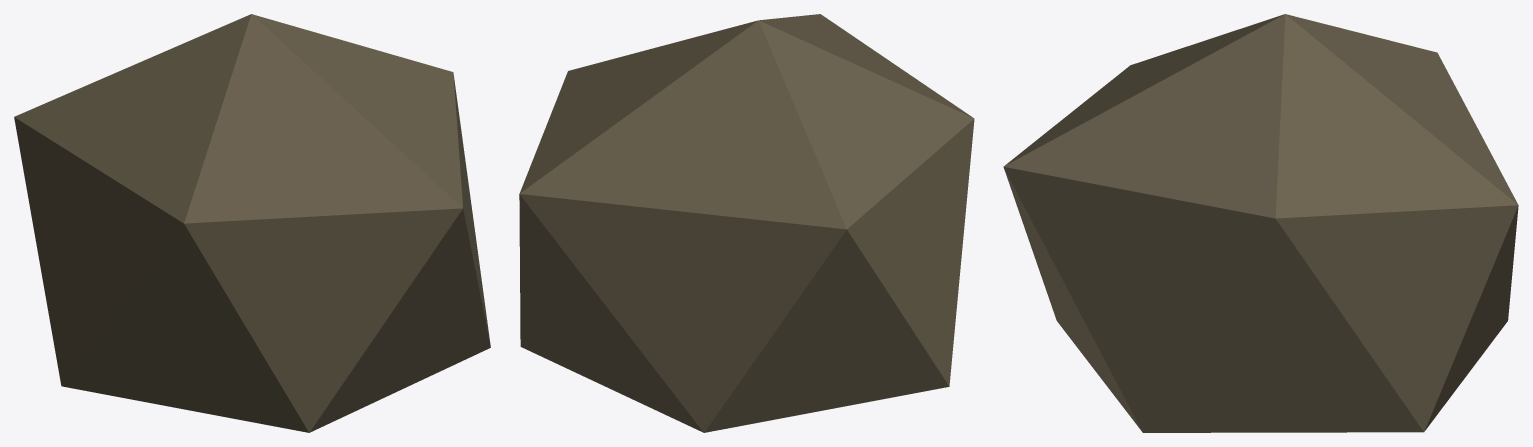
The model's file is rock.glb.
3 renders of one model, left to right at view 1: azimuth 30°, elevation 25°; view 2: azimuth 150°, elevation 25°; view 3: azimuth 270°, elevation 25°, orthographic. The views are drawn at different scales.
Visible parts, largest first — view 1: Rock; view 2: Rock; view 3: Rock.
Boxes of the visible parts, x1,y1,x2,y2 form: Rock: (14,14,490,432); Rock: (519,14,974,432); Rock: (1003,14,1518,432).
Bounding box in the file's own units: 1.74 × 1.49 × 1.94.
